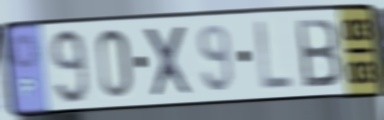0: (94, 26, 135, 103)
9: (47, 26, 92, 108), (197, 22, 234, 95)
B: (293, 16, 344, 91)
L: (254, 17, 294, 93)
X: (140, 22, 196, 100)
